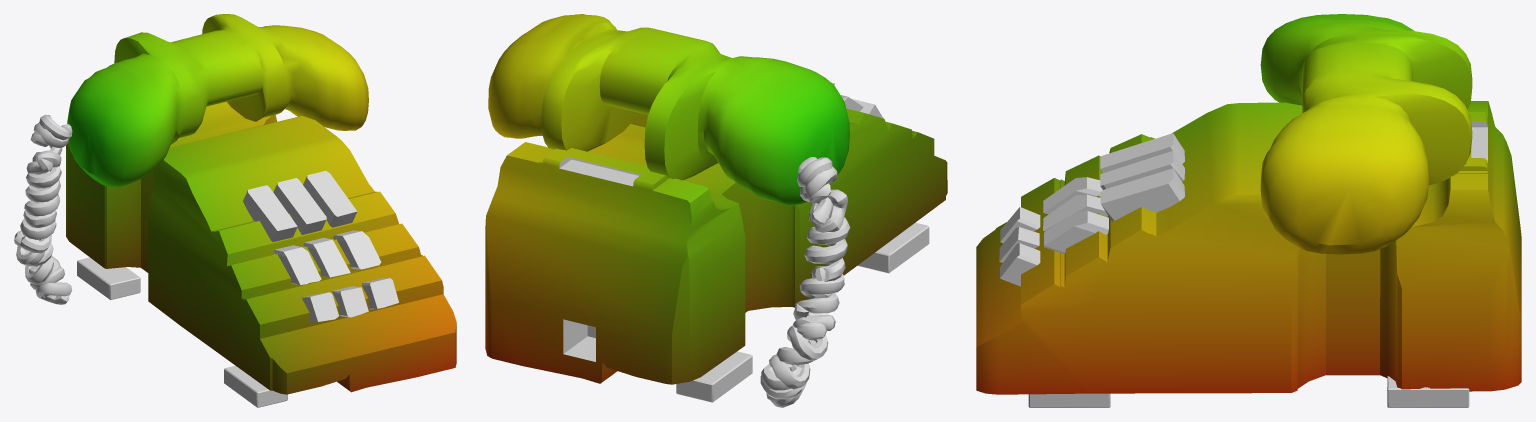
File: telephone_desk.glb
3 views of the same model, side by side, from view 1: azimuth 30°, elevation 25°; view 2: azimuth 150°, elevation 25°; view 3: azimuth 270°, elevation 25° (orthographic). The views are drawn at different scales.
Visible parts, largest first — view 1: telephone_desk; view 2: telephone_desk; view 3: telephone_desk.
Boxes of the visible parts, left/top/right/bottom form: telephone_desk: left=14, top=14, right=456, bottom=407; telephone_desk: left=485, top=14, right=947, bottom=407; telephone_desk: left=976, top=14, right=1521, bottom=407.
Size of the model in its own units: 0.1686 by 0.1345 by 0.2176.
